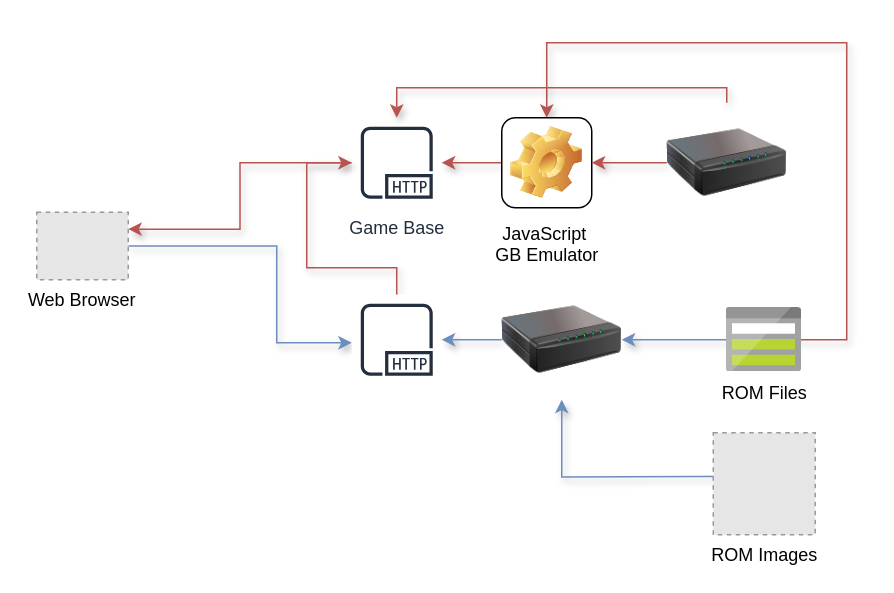
This 894x593 diagram has some shape labels left out. Grey dashed boxes stand in for pictures. The centre of each missing label's shape, as x and y in pixels:
Games Index: (396,339)
HTTP Rest Server [AHKHTTP]: (726,162)
HTTP Server [PHP.exe]: (561,339)
